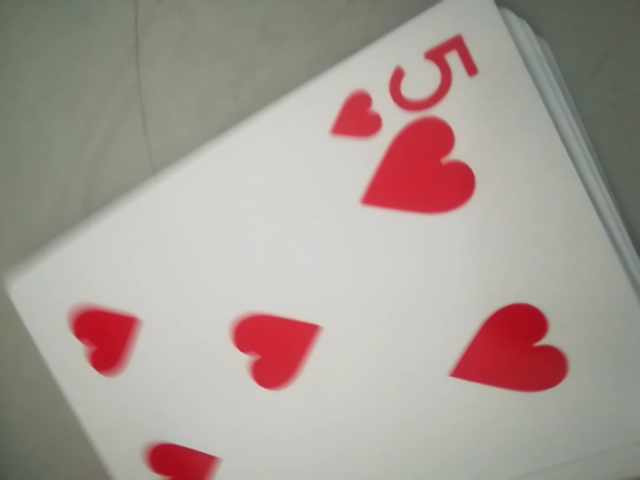hx 5: (334, 28, 482, 148)
